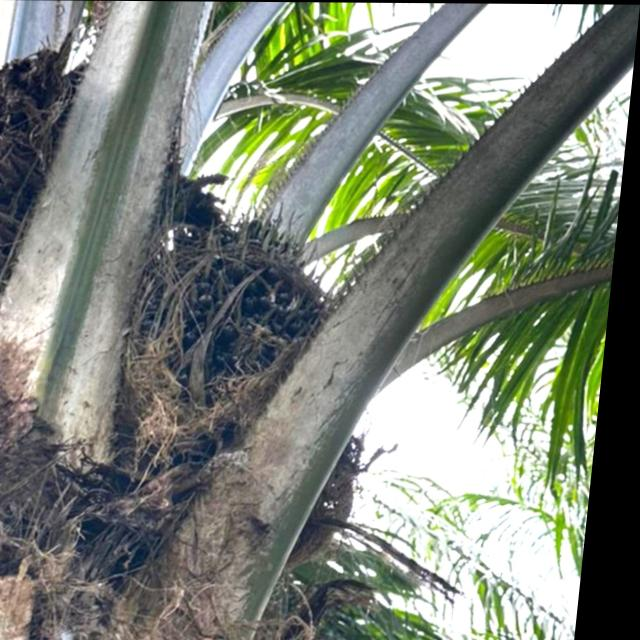almost: (139, 200, 345, 413)
